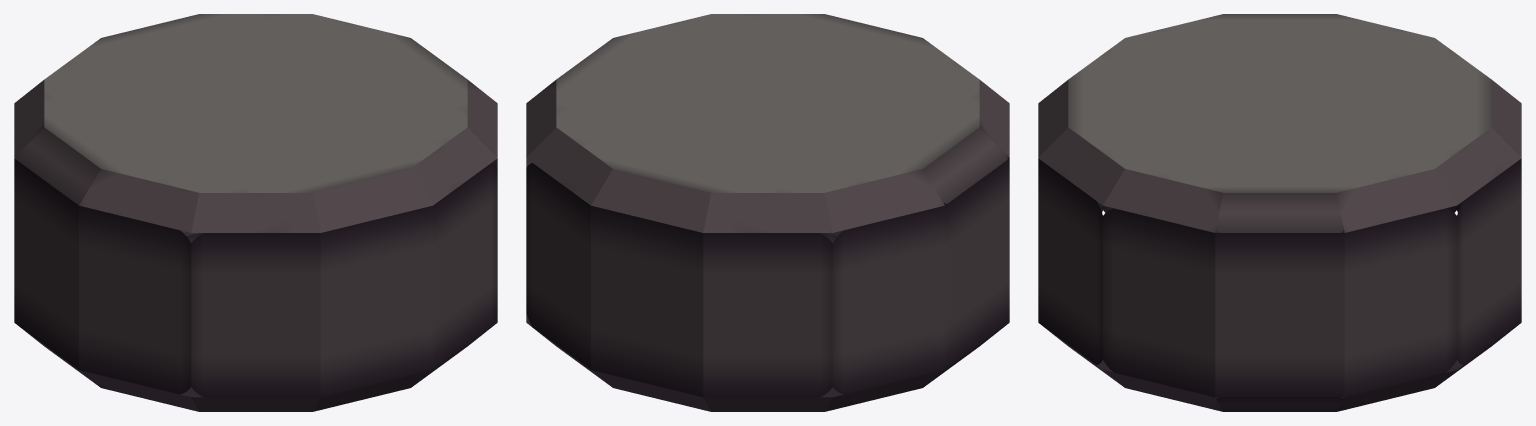
Rendered from footstool.fbx.
3 renders of one model, left to right at view 1: azimuth 30°, elevation 25°; view 2: azimuth 150°, elevation 25°; view 3: azimuth 270°, elevation 25°, orthographic.
Parts seen in each view (by area): view 1: footstool; view 2: footstool; view 3: footstool.
Part boxes in pixels (x1,y1,x2,y2): footstool: [14, 14, 497, 411]; footstool: [526, 14, 1009, 411]; footstool: [1038, 14, 1521, 411].
Bounding box in the file's own units: 125 × 62.5 × 125.
